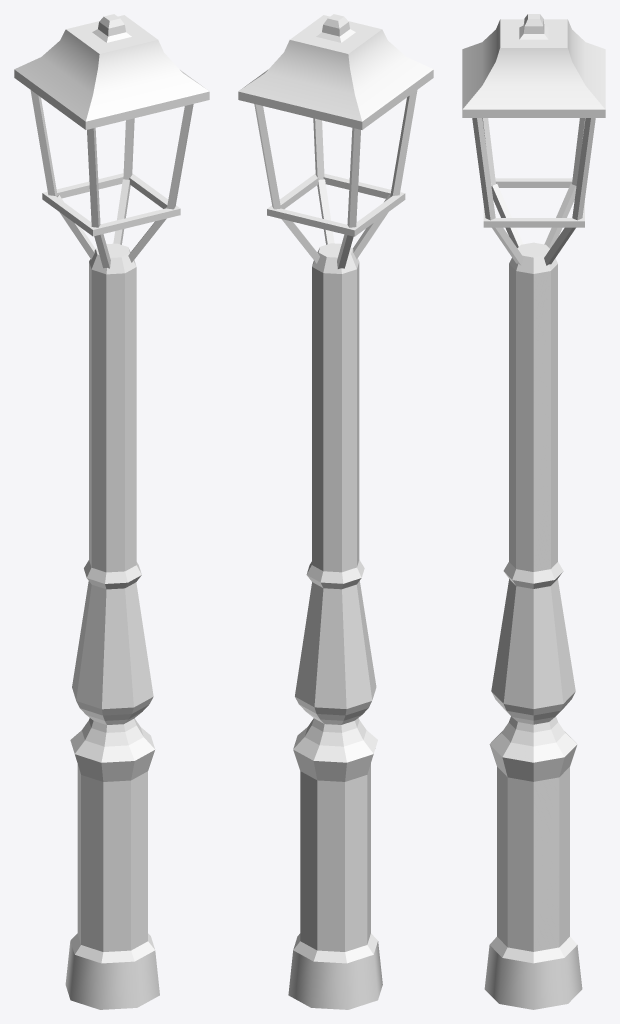
Rendered from street lamp.fbx.
The picture shows the model from 3 angles, left to right: view 1: azimuth 30°, elevation 25°; view 2: azimuth 150°, elevation 25°; view 3: azimuth 270°, elevation 25°; orthographic projection.
Parts seen in each view (by area): view 1: Cylinder006; view 2: Cylinder006; view 3: Cylinder006.
Part boxes in pixels (x1=…): Cylinder006: x1=14, y1=14, x2=209, y2=1009; Cylinder006: x1=238, y1=14, x2=433, y2=1009; Cylinder006: x1=462, y1=14, x2=605, y2=1009.
Size of the model in its own units: 35.46 by 266 by 35.46.
